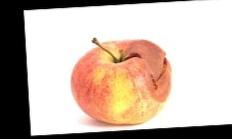rotten apple: (63, 34, 181, 126)
